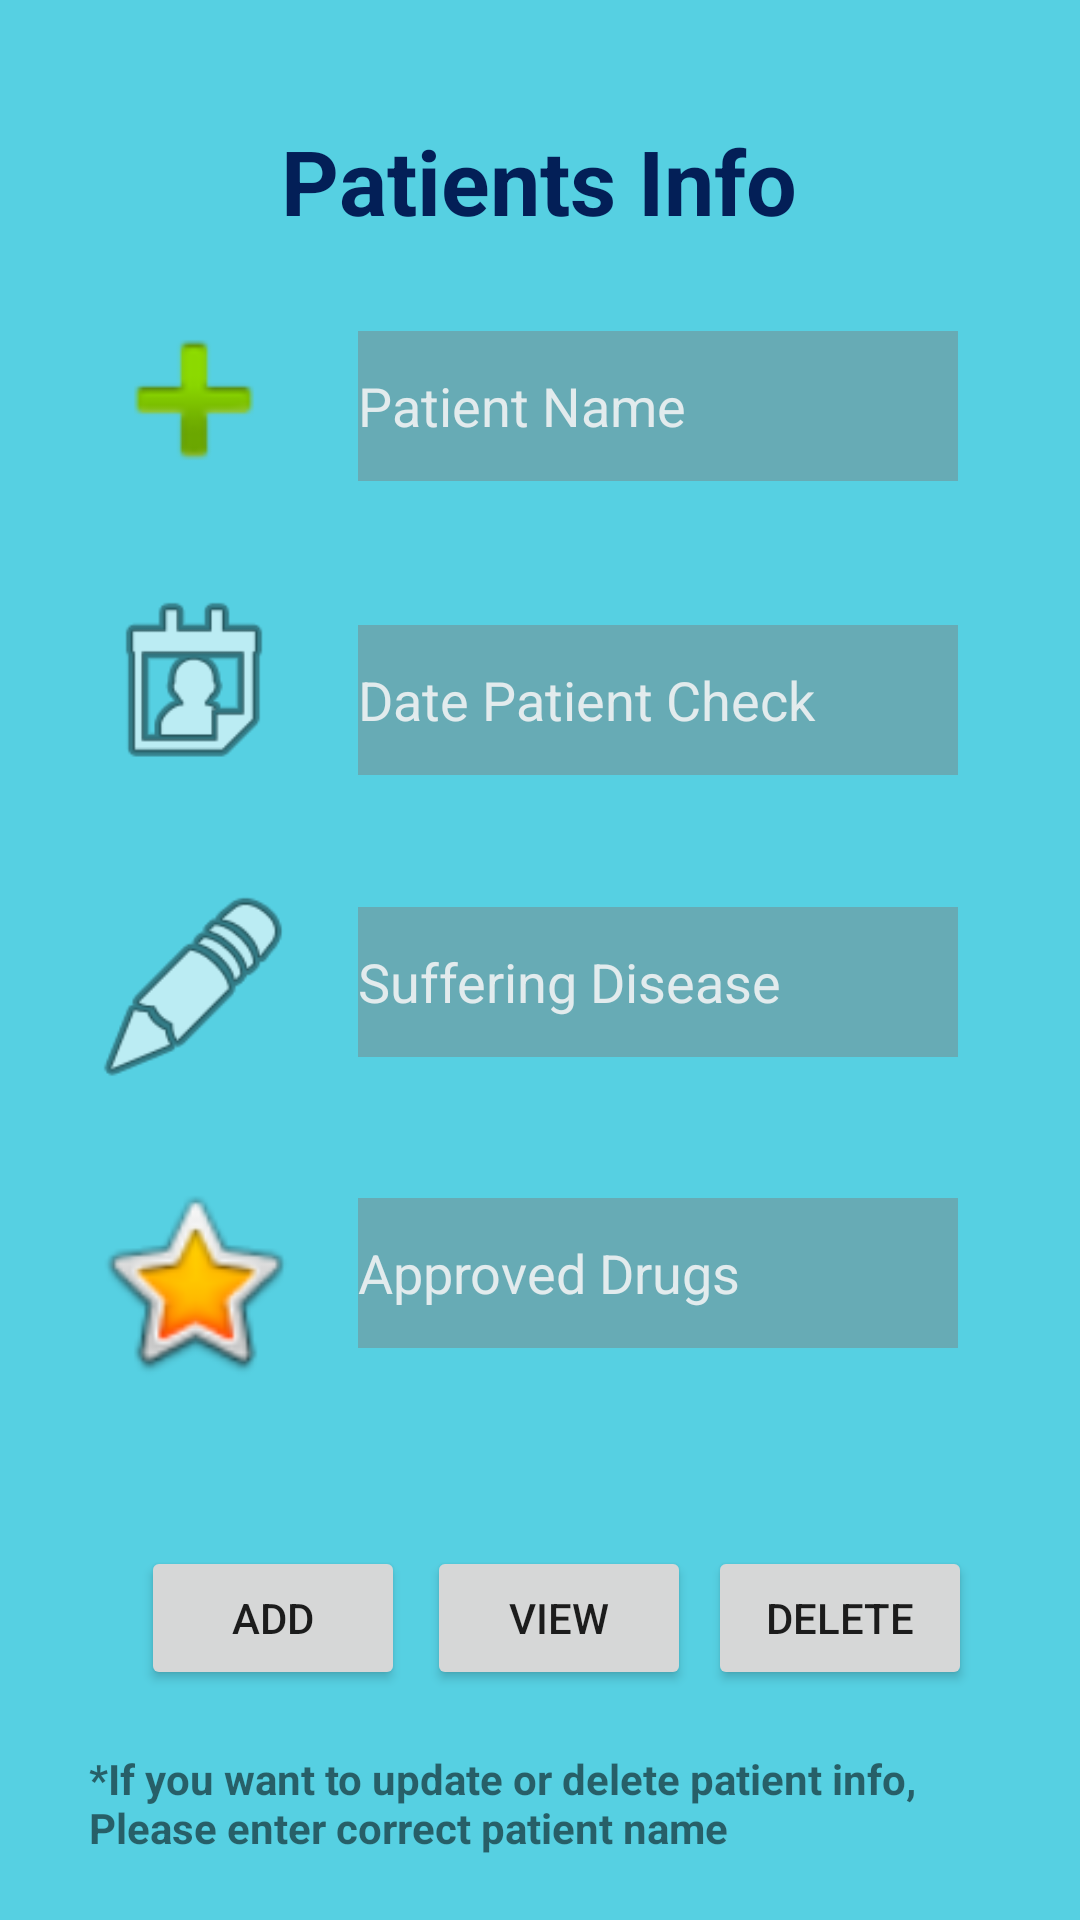

Icons on this 1080×1920 Android screen, each with the point to tap as [x,y]:
add: [194,399]
calendar: [194,680]
edit: [193,987]
star on: [195,1283]
